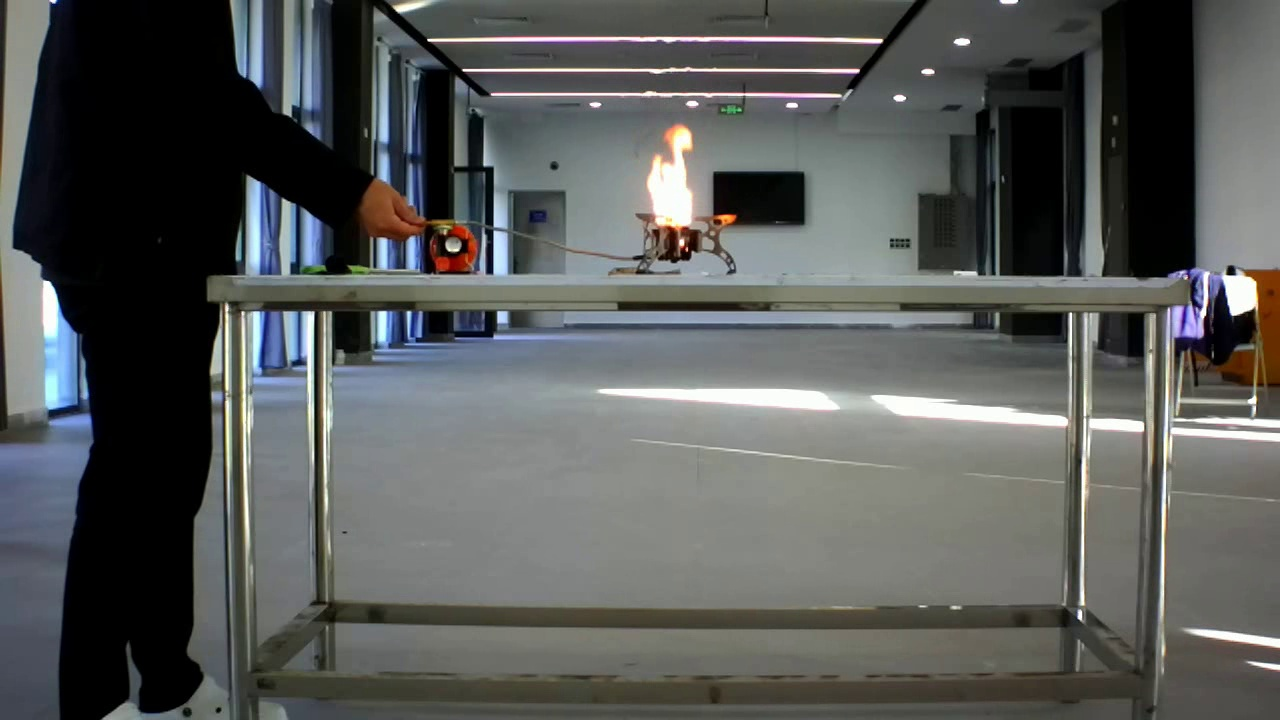Fire: (632, 117, 741, 263)
